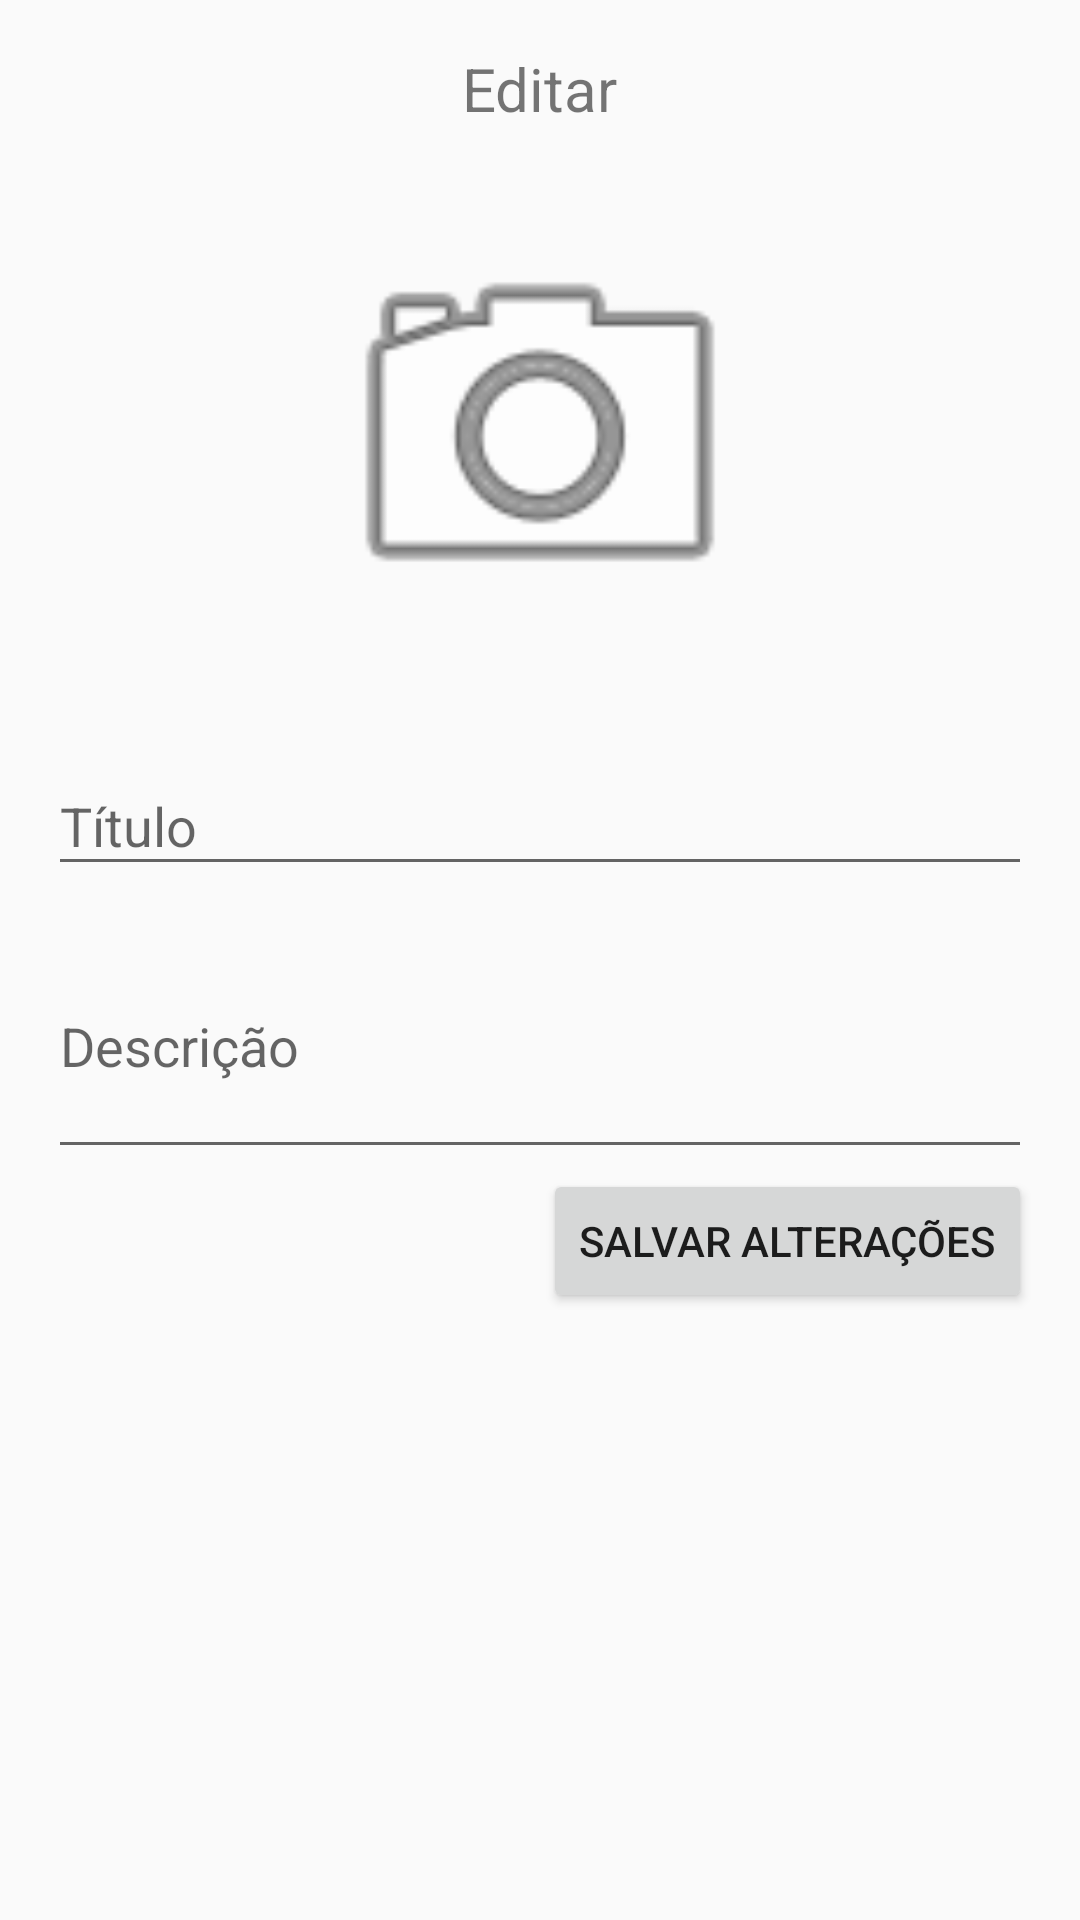

Screen size 1080*1920. Icon name, then its center in pixels as (x,y):
camera: (540,422)
